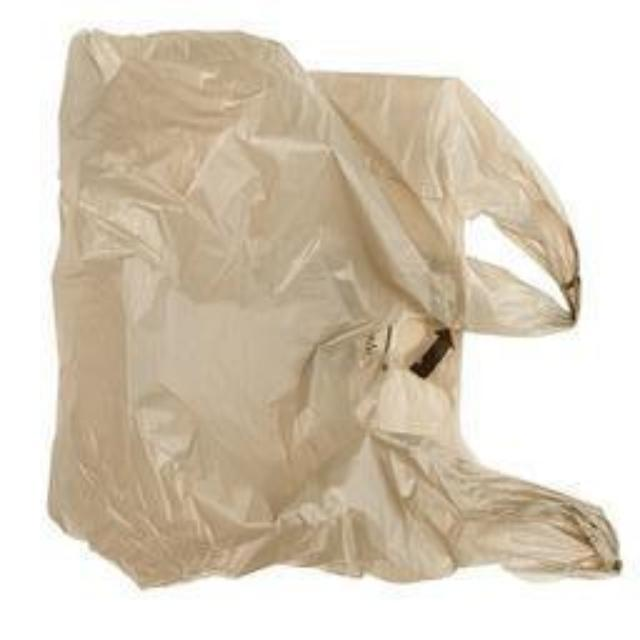Bolsa-de-plastico: (68, 35, 620, 580)
